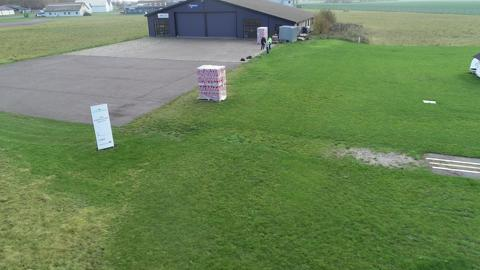RockwoolPallet: (256, 26, 269, 46)
